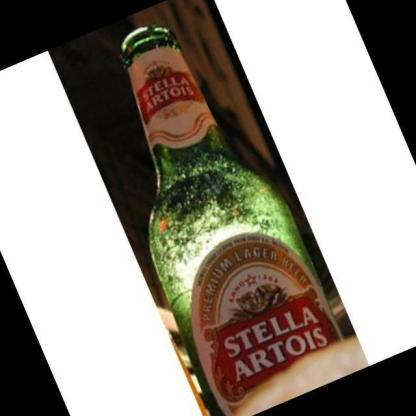Can: (118, 24, 344, 416)
